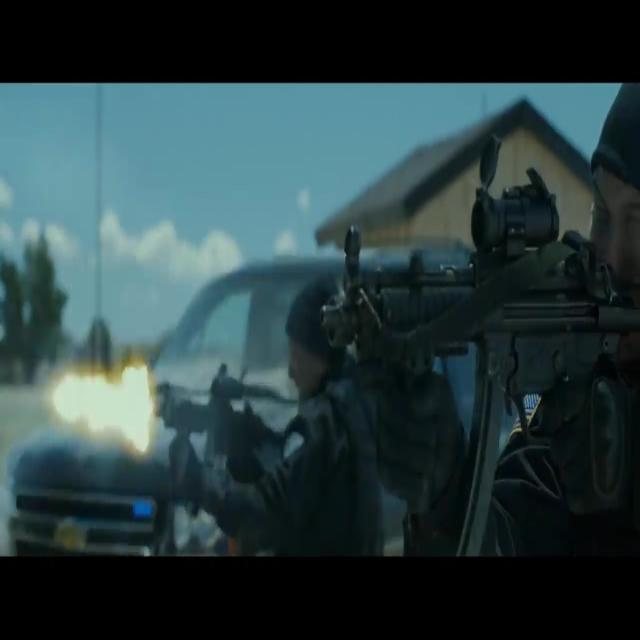Weapon: (293, 122, 640, 569), (141, 338, 335, 513)
